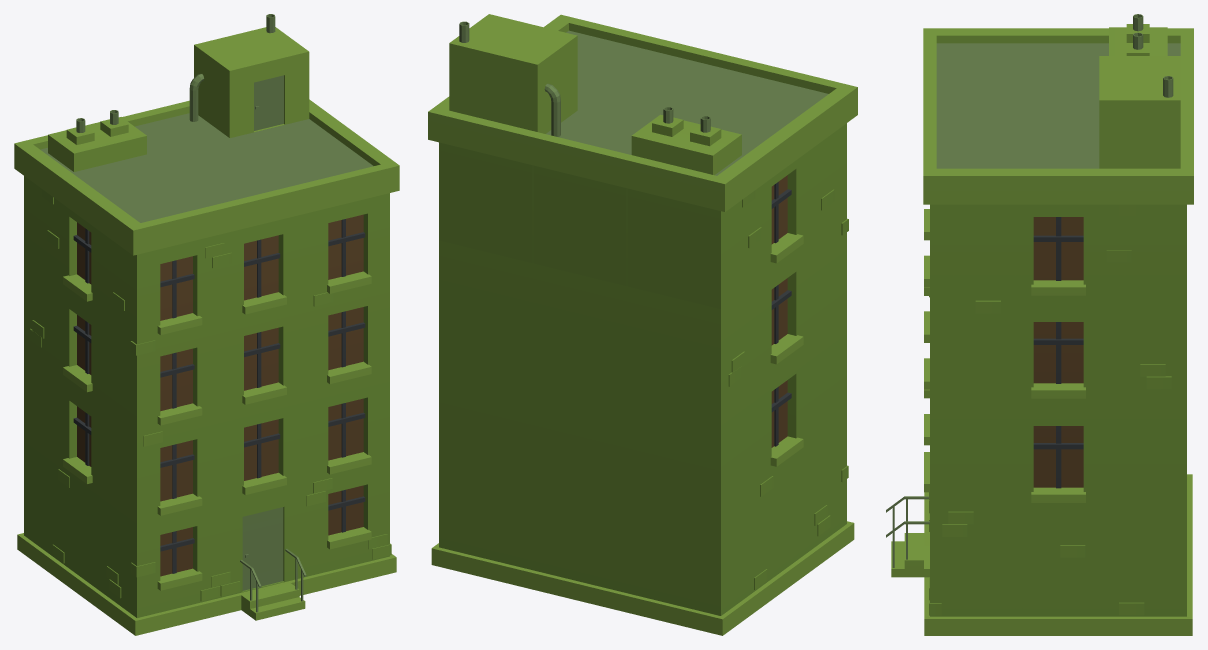
File: House_03.fbx
3 views of the same model, side by side, from view 1: azimuth 30°, elevation 25°; view 2: azimuth 150°, elevation 25°; view 3: azimuth 270°, elevation 25° (orthographic). The views are drawn at different scales.
Visible parts, largest first — view 1: House_03; view 2: House_03; view 3: House_03.
Boxes of the visible parts, bbox=[...] form: House_03: bbox=[14, 14, 399, 635]; House_03: bbox=[428, 14, 857, 635]; House_03: bbox=[886, 14, 1193, 635].
Bounding box in the file's own units: 7.14 × 12.35 × 6.29.
